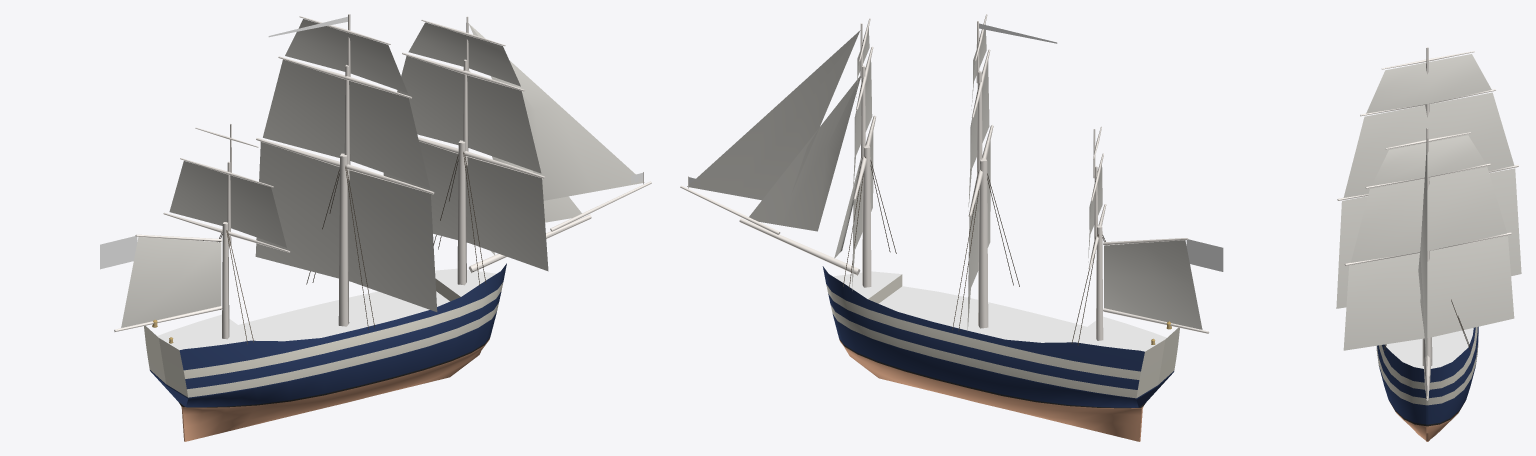
File: frigate_lod2.glb
3 views of the same model, side by side, from view 1: azimuth 30°, elevation 25°; view 2: azimuth 150°, elevation 25°; view 3: azimuth 270°, elevation 25° (orthographic). The views are drawn at different scales.
Visible parts, largest first — view 1: SM_Frigate_LOD2; view 2: SM_Frigate_LOD2; view 3: SM_Frigate_LOD2.
Boxes of the visible parts, <box> form: SM_Frigate_LOD2: <box>100,14,651,441</box>; SM_Frigate_LOD2: <box>680,14,1223,441</box>; SM_Frigate_LOD2: <box>1336,47,1521,441</box>.
Bounding box in the file's own units: 51.2 × 29.7 × 14.24.
